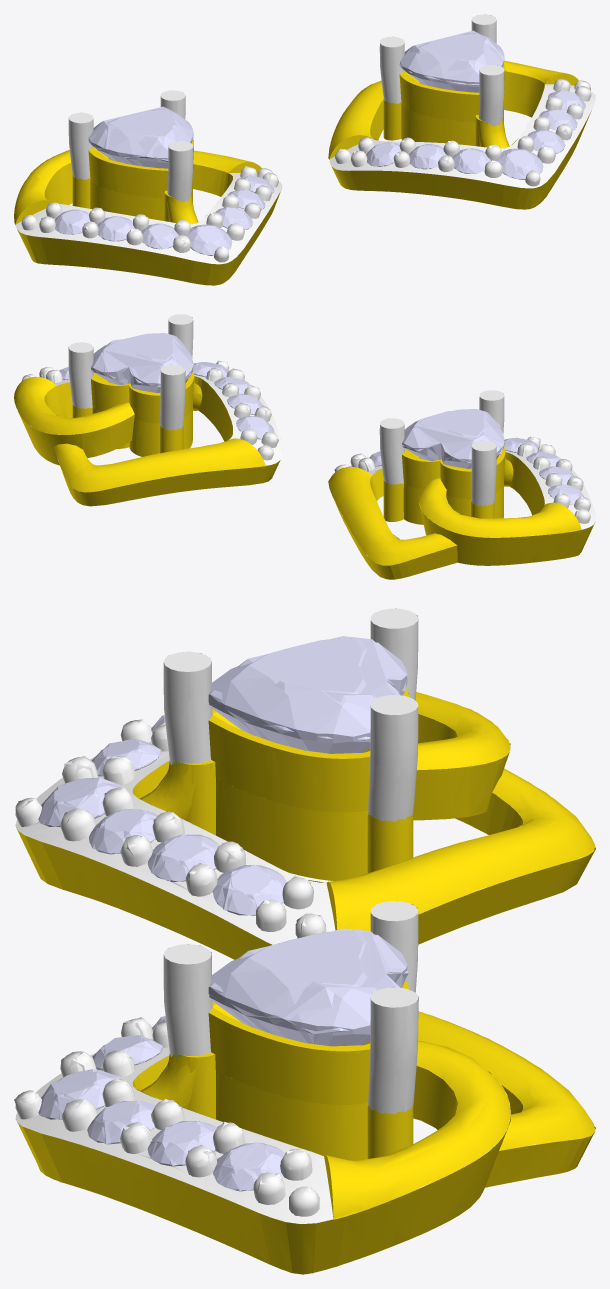
3 renders of one model, top to bottom at view 1: azimuth 30°, elevation 25°; view 2: azimuth 150°, elevation 25°; view 3: azimuth 270°, elevation 25°, orthographic. The views are drawn at different scales.
Parts seen in each view (by area): view 1: highPolyMesh, lowPolyMesh; view 2: highPolyMesh, lowPolyMesh; view 3: highPolyMesh, lowPolyMesh.
Part boxes in pixels (<box>): highPolyMesh: <box>14,20,595,284</box>; lowPolyMesh: <box>14,14,595,285</box>; highPolyMesh: <box>14,319,595,579</box>; lowPolyMesh: <box>14,314,595,579</box>; highPolyMesh: <box>15,619,595,1274</box>; lowPolyMesh: <box>14,608,595,1274</box>.
Bounding box in the file's own units: 0.0168 × 0.00311 × 0.0077.
